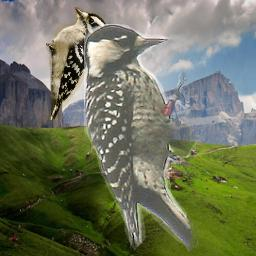Woodpecker: (84, 24, 201, 253), (46, 7, 108, 120)
